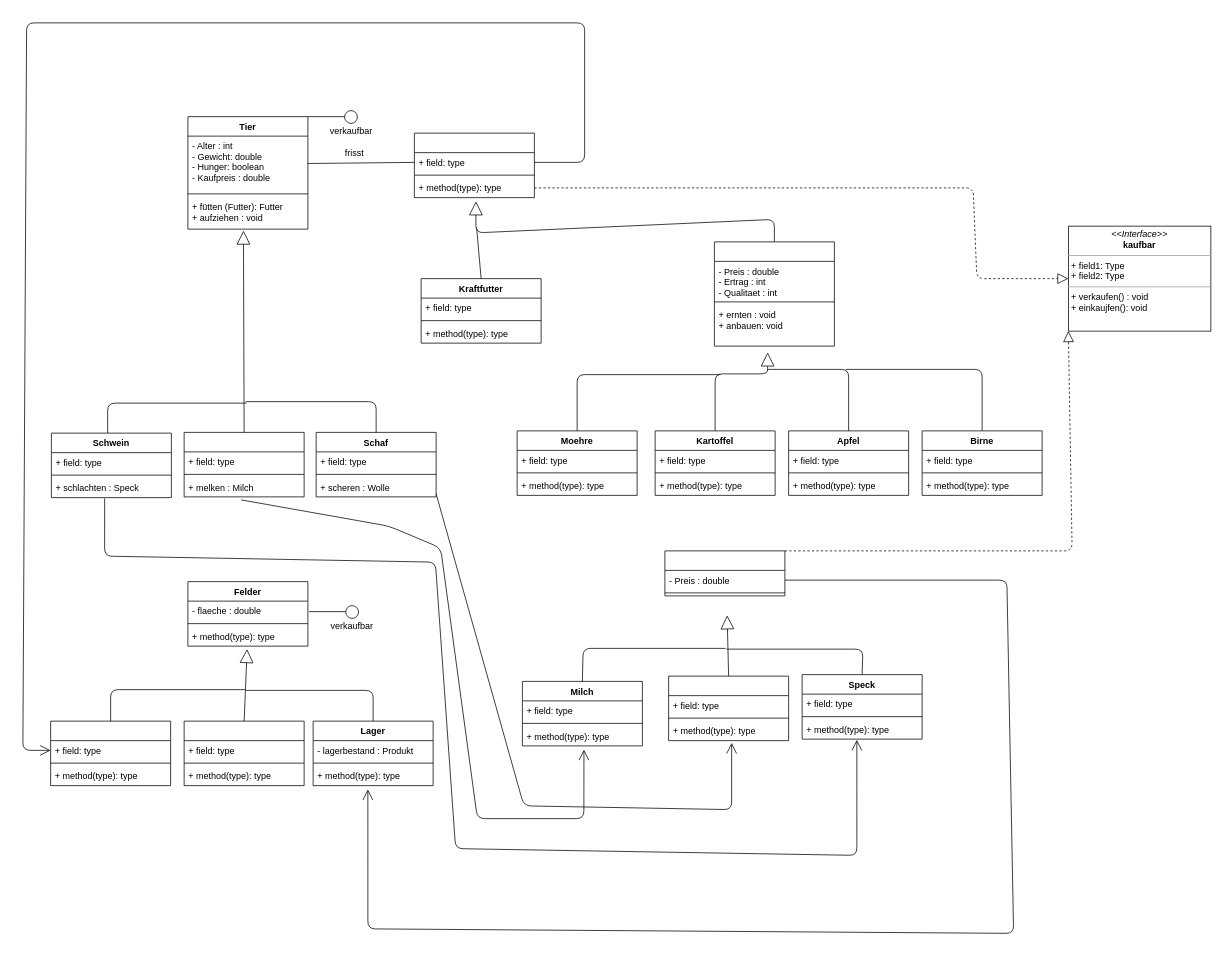
The diagram is 1224 pixels wide and 957 high, and some of its shapes have lost their labels. Each missing label, with the box of its shape:
Futter: (414, 132, 534, 198)
Kuh: (183, 432, 304, 497)
Pflanze: (714, 241, 834, 346)
Produkt: (664, 550, 785, 596)
Silo: (50, 720, 171, 786)
Wolle: (668, 675, 789, 741)
Zuchtstall: (183, 720, 304, 786)
